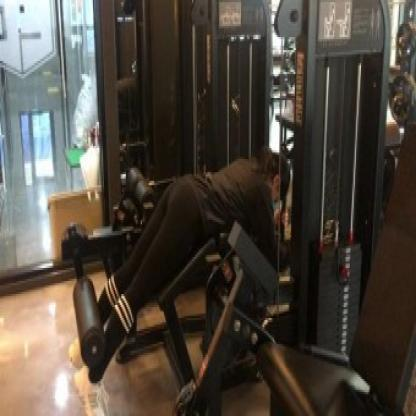reg curl machine: (66, 3, 295, 411)
